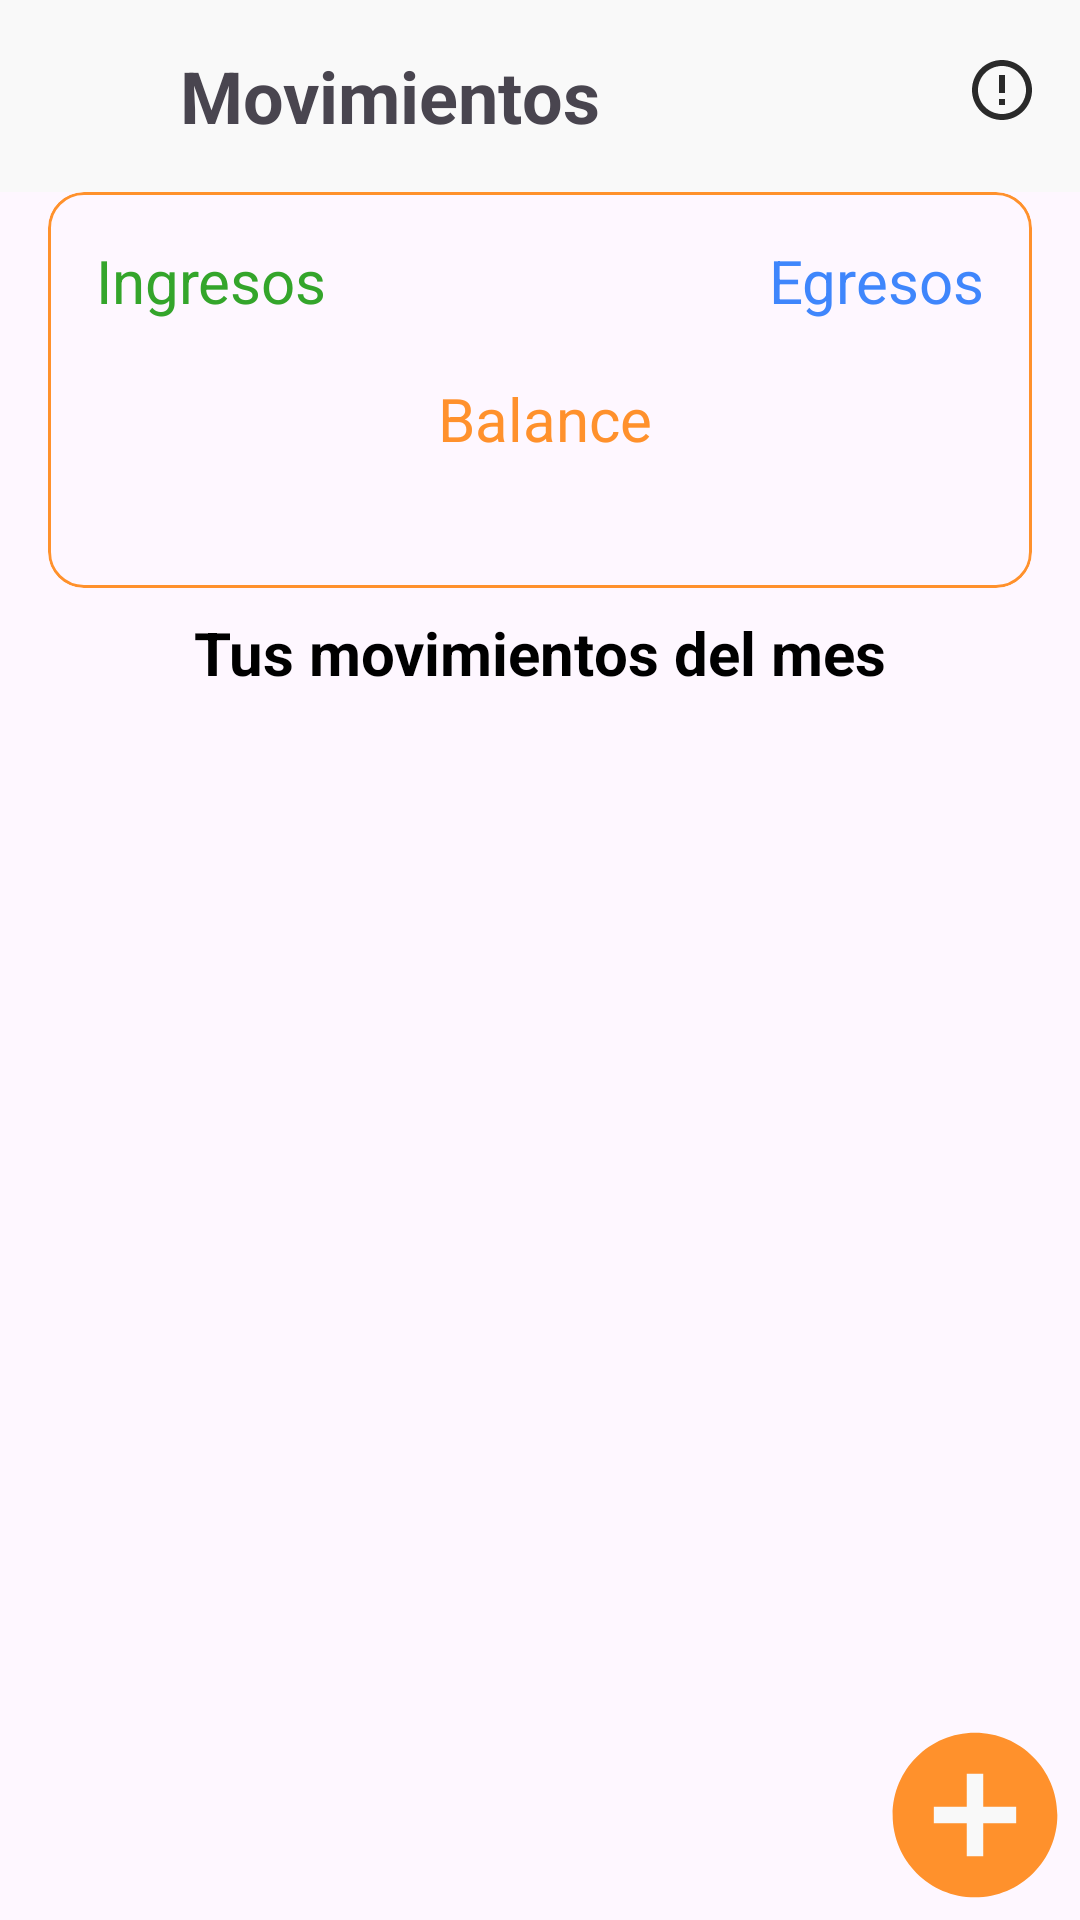

Named icons in this screenshot (1080px x 1920px) and their bounding boxes, (x1, y1, x2, y2):
plus: (892, 1732, 1058, 1898)
